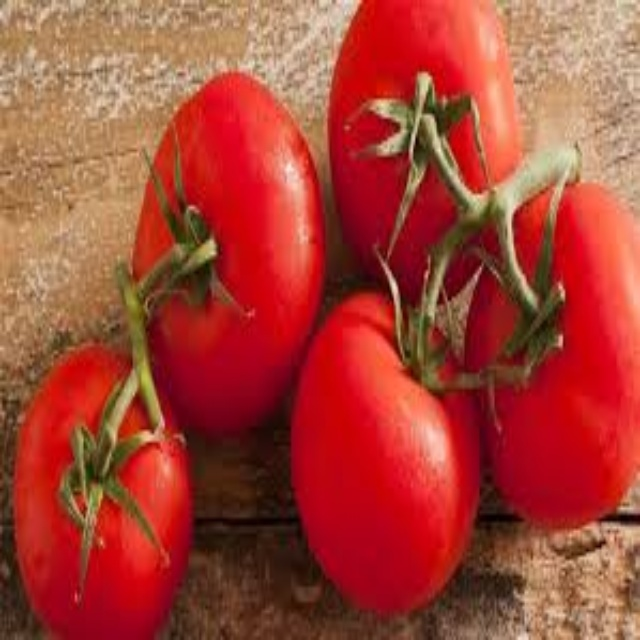tomato: (125, 67, 329, 429), (331, 8, 527, 299), (295, 297, 470, 605), (475, 193, 639, 516), (22, 354, 186, 628)
